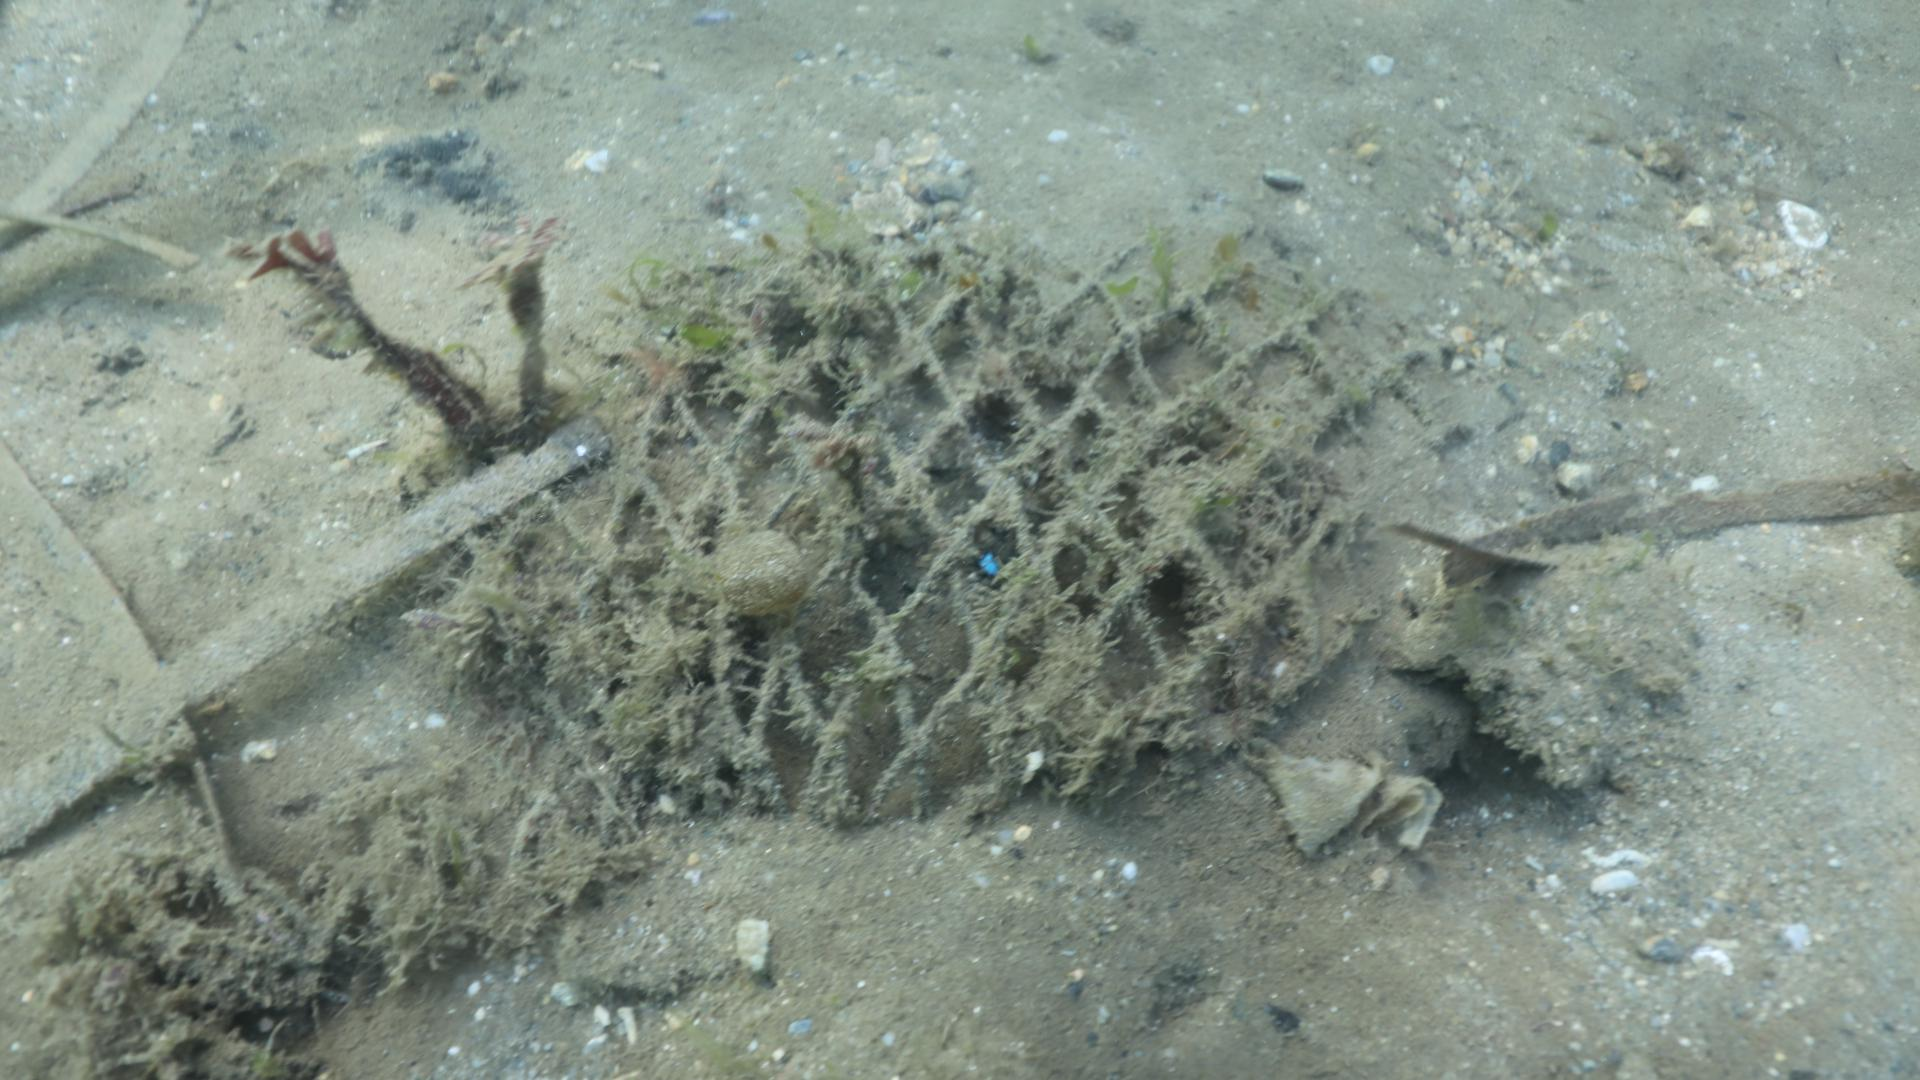fish net: (531, 239, 1440, 818)
